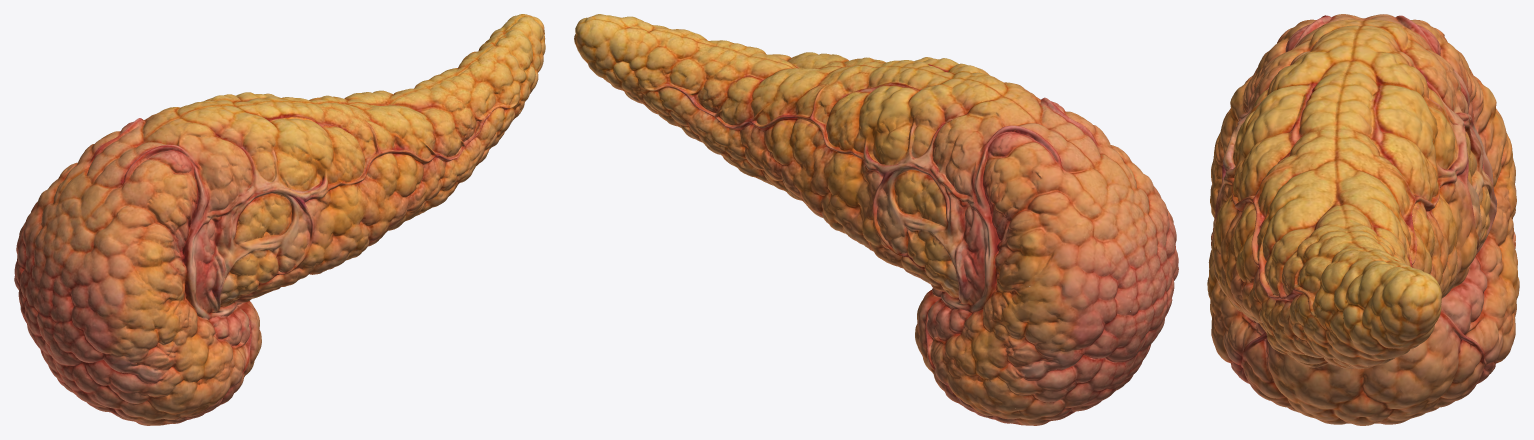
Rendered from pancreas.glb.
The picture shows the model from 3 angles, left to right: view 1: azimuth 30°, elevation 25°; view 2: azimuth 150°, elevation 25°; view 3: azimuth 270°, elevation 25°; orthographic projection. The views are drawn at different scales.
Parts seen in each view (by area): view 1: tripo_node_28f9ac4d-a7ee-4a69-acaa-c6201ef7be03; view 2: tripo_node_28f9ac4d-a7ee-4a69-acaa-c6201ef7be03; view 3: tripo_node_28f9ac4d-a7ee-4a69-acaa-c6201ef7be03.
Part boxes in pixels (left/top/right/bottom): tripo_node_28f9ac4d-a7ee-4a69-acaa-c6201ef7be03: left=14, top=14, right=545, bottom=425; tripo_node_28f9ac4d-a7ee-4a69-acaa-c6201ef7be03: left=574, top=14, right=1178, bottom=425; tripo_node_28f9ac4d-a7ee-4a69-acaa-c6201ef7be03: left=1207, top=14, right=1519, bottom=425.
Size of the model in its own units: 0.9805 by 0.5224 by 0.3615.
1 material, 1 textured.
